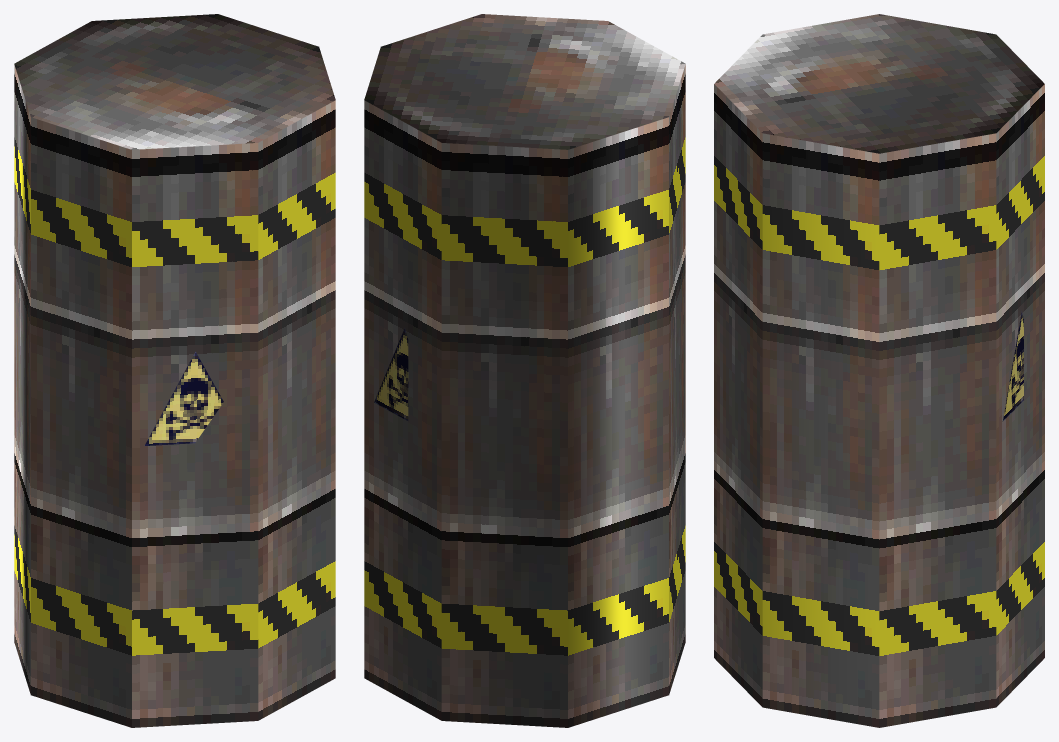
The model's file is Poil_drum5Z.obj.
3 renders of one model, left to right at view 1: azimuth 30°, elevation 25°; view 2: azimuth 150°, elevation 25°; view 3: azimuth 270°, elevation 25°, orthographic.
Size of the model in its own units: 690 by 1322 by 690.
Materials: 3 (3 with a texture image).
